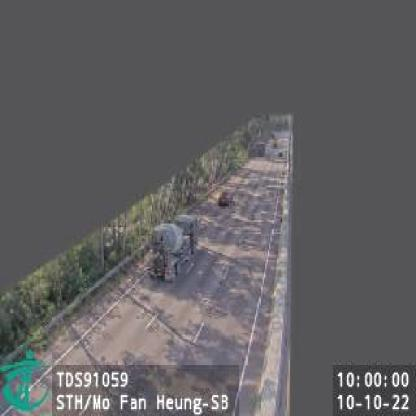Car: (219, 189, 233, 207)
Truck: (146, 208, 199, 281)
